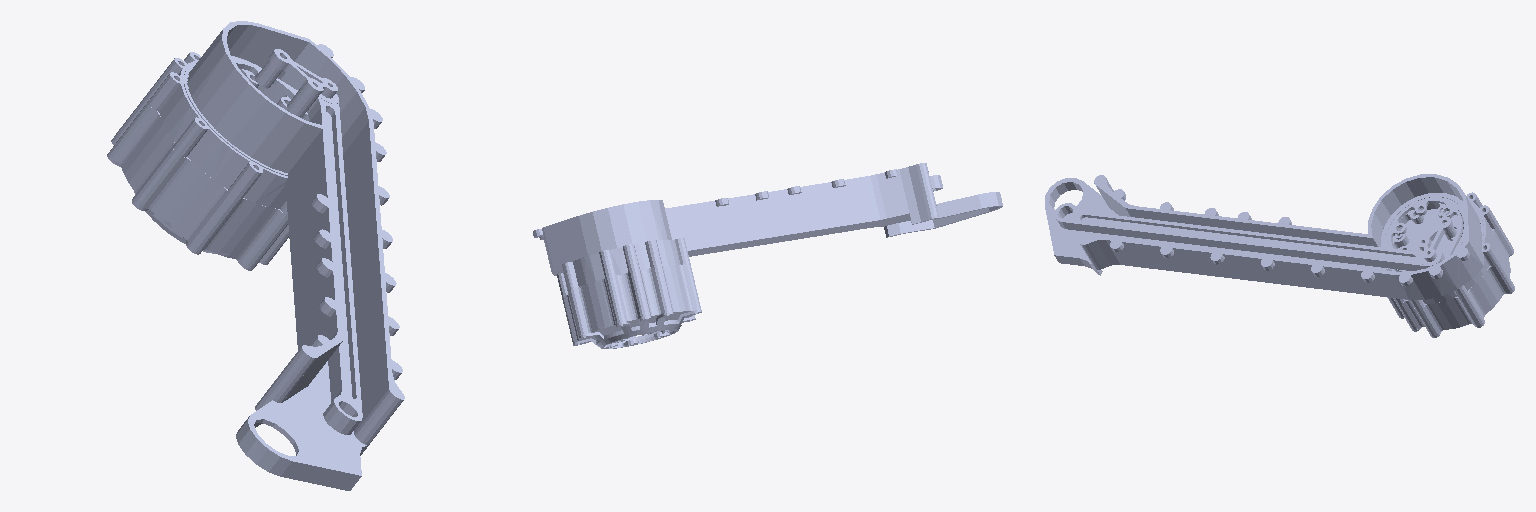
The robot description file, URDF, robot "arm_test_2":
<?xml version="1.0" encoding="utf-8"?>
<!-- This URDF was automatically created by SolidWorks to URDF Exporter! Originally created by [author] ([email redacted]) 
     Commit Version: 1.6.0-4-g7f85cfe  Build Version: 1.6.7995.38578
     For more information, please see http://wiki.ros.org/sw_urdf_exporter -->
<robot
  name="arm_test_2">

  <link name="world"/>

  <link
    name="base_link">
    <inertial>
      <origin
        xyz="-6.0229E-06 2.1933E-06 0.036268"
        rpy="0 0 0" />
      <mass
        value="0.40931" />
      <inertia
        ixx="0.00025677"
        ixy="4.1595E-06"
        ixz="-3.6781E-09"
        iyy="0.00024853"
        iyz="9.8375E-10"
        izz="0.00045579" />
    </inertial>
    <visual>
      <origin
        xyz="0 0 0"
        rpy="0 0 0" />
      <geometry>
        <mesh
          filename="package://arm_test_2/meshes/base_link.STL" />
      </geometry>
      <material
        name="">
        <color
          rgba="0.75294 0.75294 0.75294 1" />
      </material>
    </visual>
  </link>

  <joint name="kinova_joint_base" type="fixed">
    <parent link="world"/>
    <child link="base_link"/>
    <origin rpy="0 0 0" xyz="0 0 0"/>
  </joint>

  <link
    name="link1">
    <inertial>
      <origin
        xyz="7.682E-06 0.025925 0.11875"
        rpy="0 0 0" />
      <mass
        value="0.42204" />
      <inertia
        ixx="0.00026113"
        ixy="1.0757E-07"
        ixz="-4.0427E-09"
        iyy="0.00046901"
        iyz="1.6464E-09"
        izz="0.0002593" />
    </inertial>
    <visual>
      <origin
        xyz="0 0 0"
        rpy="0 0 0" />
      <geometry>
        <mesh
          filename="package://arm_test_2/meshes/link1.STL" />
      </geometry>
      <material
        name="">
        <color
          rgba="0.79216 0.81961 0.93333 1" />
      </material>
    </visual>
  </link>
  <joint
    name="joint1"
    type="revolute">
    <origin
      xyz="0 0 0"
      rpy="0 0 0" />
    <parent
      link="base_link" />
    <child
      link="link1" />
    <axis
      xyz="0 0 -1" />
    <limit
      lower="-2"
      upper="2"
      effort="40"
      velocity="20" />
  </joint>
  <link
    name="link2">
    <inertial>
      <origin
        xyz="-0.067111 -0.065486 0.11016"
        rpy="0 0 0" />
      <mass
        value="0.84768" />
      <inertia
        ixx="0.00057616"
        ixy="-1.4668E-05"
        ixz="-1.8116E-05"
        iyy="0.0065673"
        iyz="-2.4064E-05"
        izz="0.0061731" />
    </inertial>
    <visual>
      <origin
        xyz="0 0 0"
        rpy="0 0 0" />
      <geometry>
        <mesh
          filename="package://arm_test_2/meshes/link2.STL" />
      </geometry>
      <material
        name="">
        <color
          rgba="0.79216 0.81961 0.93333 1" />
      </material>
    </visual>
  </link>
  <joint
    name="joint2"
    type="revolute">
    <origin
      xyz="0 0 0"
      rpy="0 0 0" />
    <parent
      link="link1" />
    <child
      link="link2" />
    <axis
      xyz="0 0 -1" />
    <limit
      lower="-2"
      upper="2"
      effort="40"
      velocity="20" />
  </joint>
</robot>

--- Render facts (derived) ---
3 views of the same robot in one strip: view 1: azimuth 30°, elevation 25°; view 2: azimuth 150°, elevation 25°; view 3: azimuth 270°, elevation 25° (orthographic).
Robot: arm_test_2 — 4 links, 3 joints (2 revolute, 1 fixed); root link world; default pose: all joints at 0.
Visible links, largest first — view 1: link2; view 2: link2; view 3: link2.
Link boxes in pixels (left/top/right/bottom): link2: left=107, top=21, right=404, bottom=490; link2: left=533, top=163, right=1002, bottom=348; link2: left=1045, top=174, right=1514, bottom=337.
Bounding box of the posed robot: 0.2376 × 0.3633 × 0.126 m (x, y, z).
Meshes: 3 distinct files referenced, 1 mesh visuals loaded (1 binary STL); not drawn: 2 (reference not matched to a file when rendering).